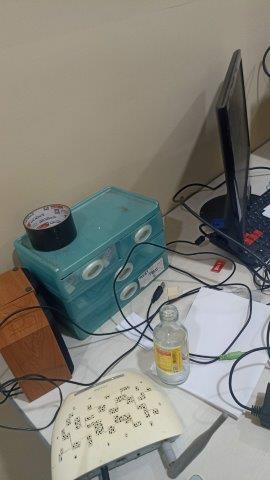botolkaca: (153, 304, 190, 388)
kertas: (151, 287, 269, 420)
